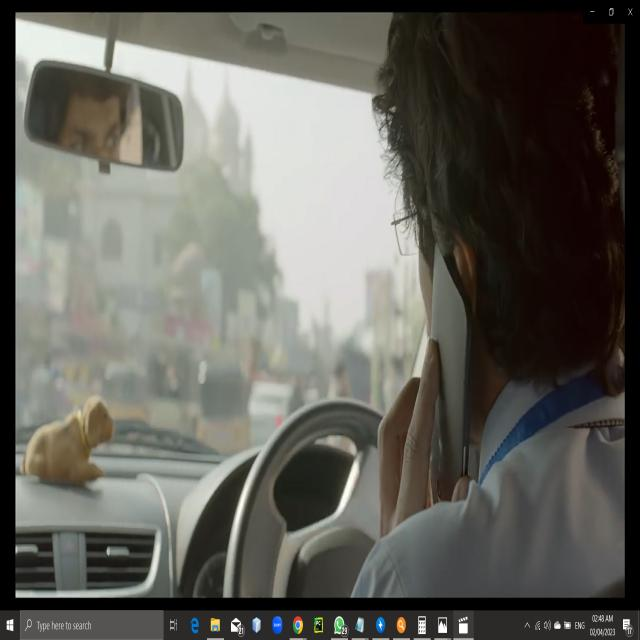using_phone: (371, 217, 496, 526)
